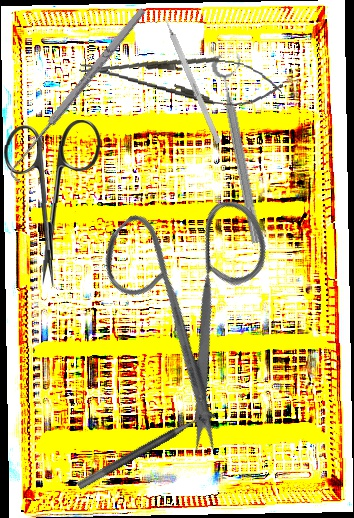Fixation Ring: (76, 407, 221, 502), (209, 51, 278, 245)
Hook Surgical: (2, 3, 155, 186), (158, 7, 222, 145)
Iris Scissors: (44, 152, 354, 462), (2, 118, 101, 288)
Needle Holder: (76, 42, 286, 113)
